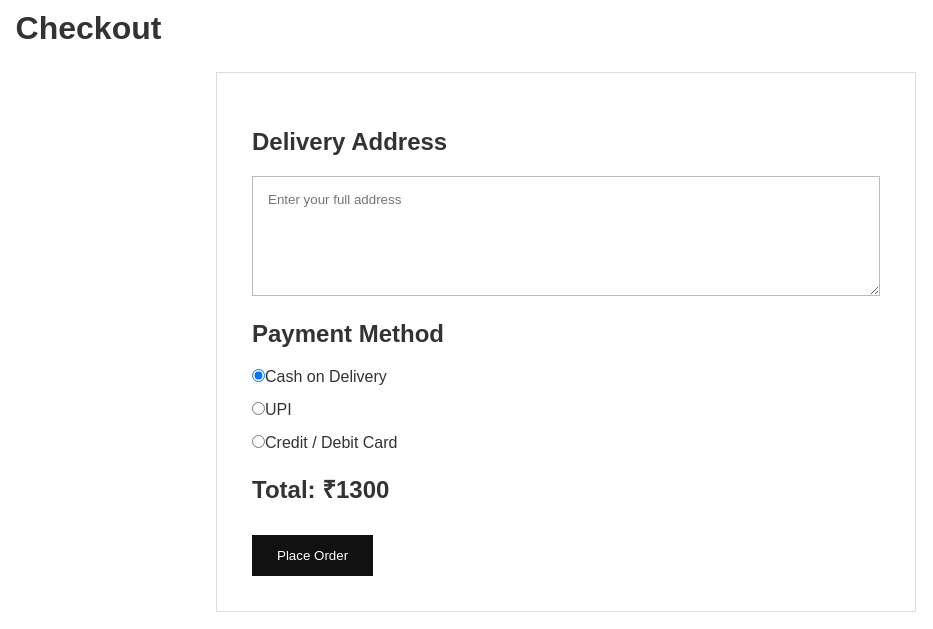
Test: Checkout Component Testing › should select Card payment method
The image size is (933, 629).
Click the radio button labelled "Credit / Debit Card": (258, 442) [252, 435, 265, 448]
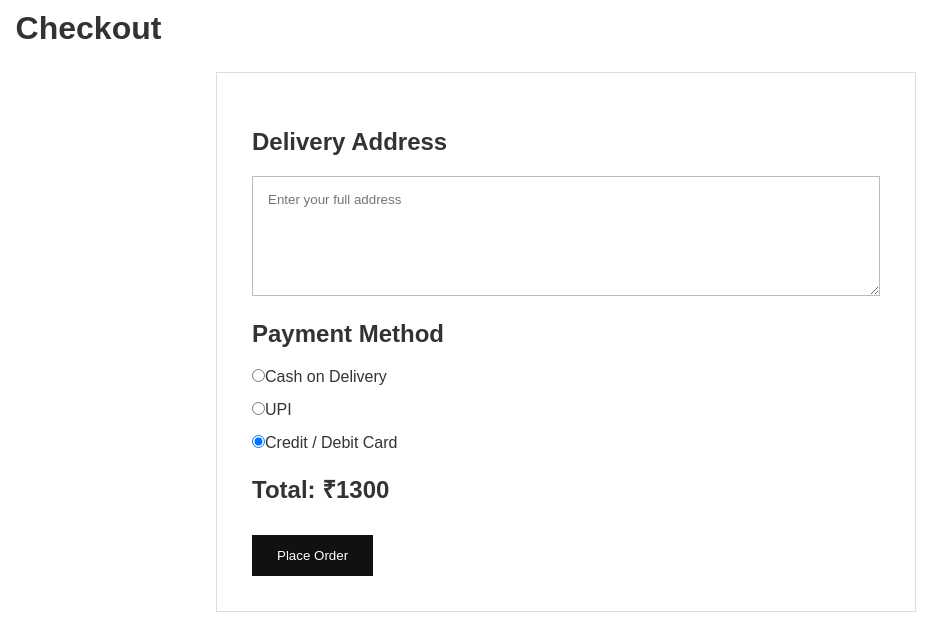
Expected: the radio button labelled "Credit / Debit Card" is checked, [252, 435, 265, 448]
